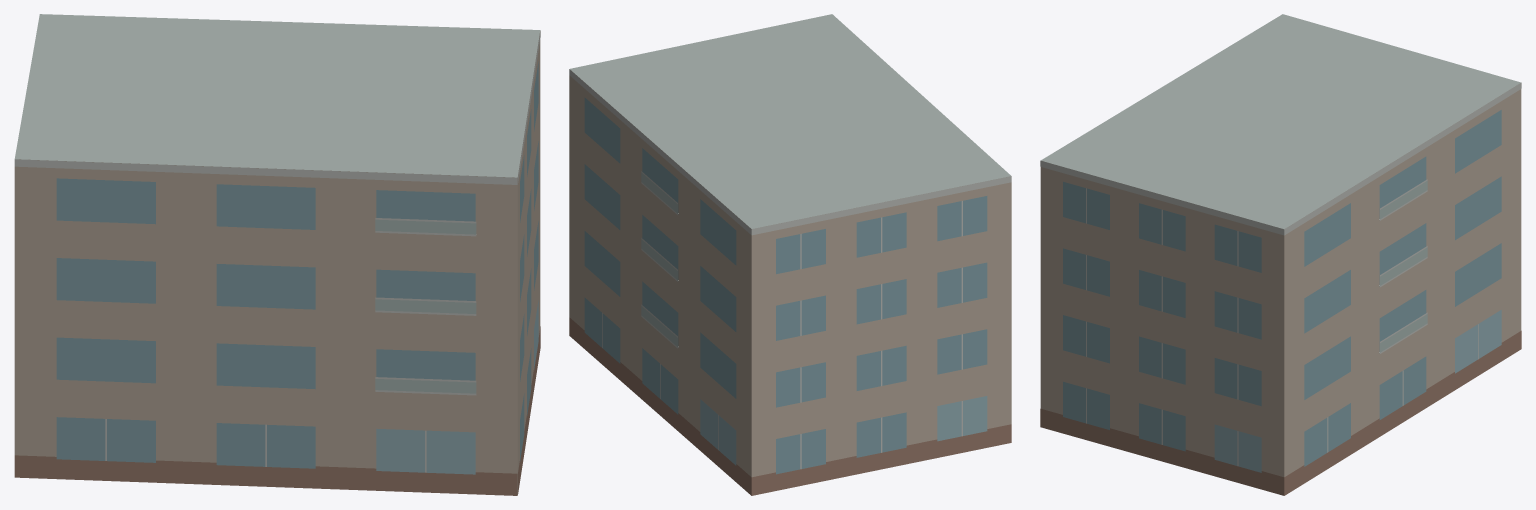
File: survey-upis-32780058.glb
The picture shows the model from 3 angles, left to right: view 1: azimuth 30°, elevation 25°; view 2: azimuth 150°, elevation 25°; view 3: azimuth 270°, elevation 25°; orthographic projection. The views are drawn at different scales.
Parts seen in each view (by area): view 1: survey-upis-32780058.tmp; view 2: survey-upis-32780058.tmp; view 3: survey-upis-32780058.tmp.
Part boxes in pixels (x1,y1,x2,y2): survey-upis-32780058.tmp: [14, 14, 540, 495]; survey-upis-32780058.tmp: [569, 14, 1011, 495]; survey-upis-32780058.tmp: [1040, 14, 1521, 495].
Size of the model in its own units: 18.02 by 10.4 by 17.01.
